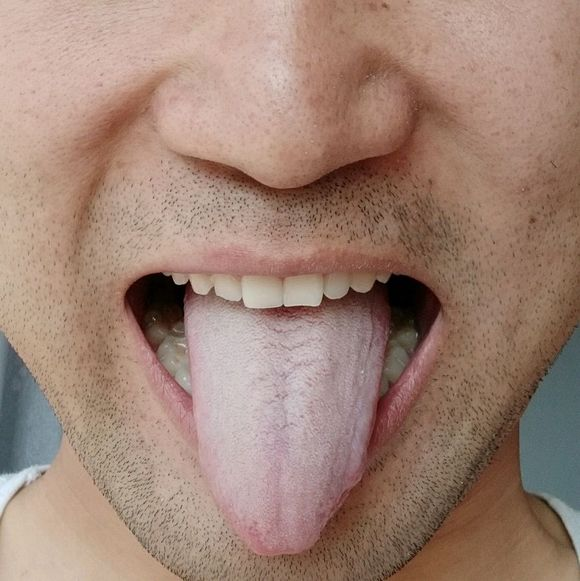baitaishe: (183, 288, 391, 556)
liewenshe: (259, 316, 308, 432)
